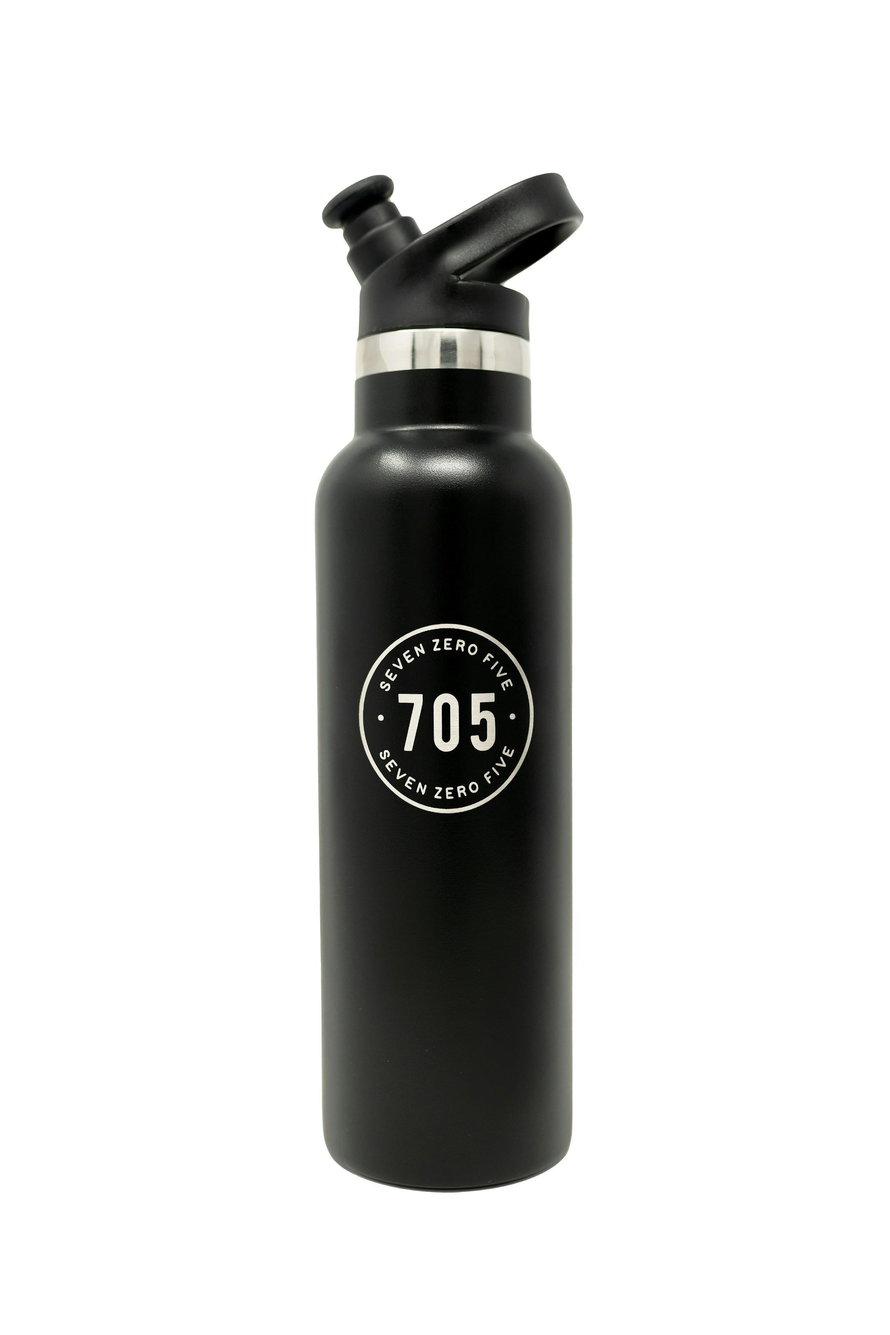Bottle-Detection: (172, 92, 713, 1259)
